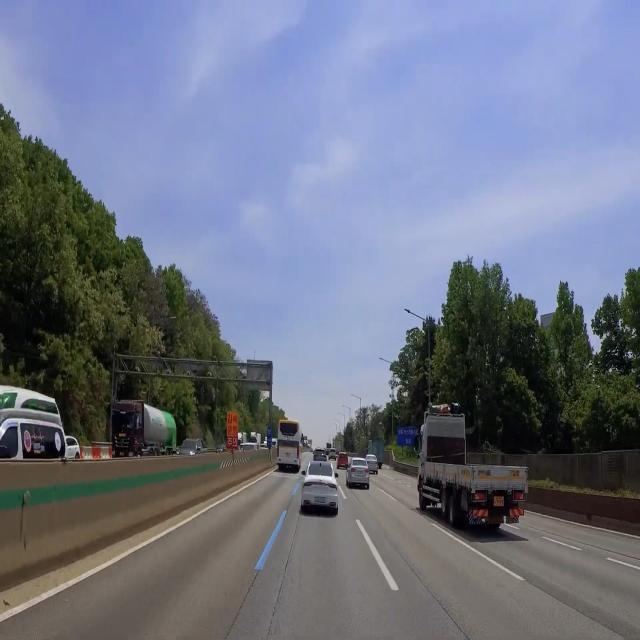car: (494, 494, 506, 512), (313, 493, 327, 507), (353, 468, 369, 480), (284, 450, 292, 461)
